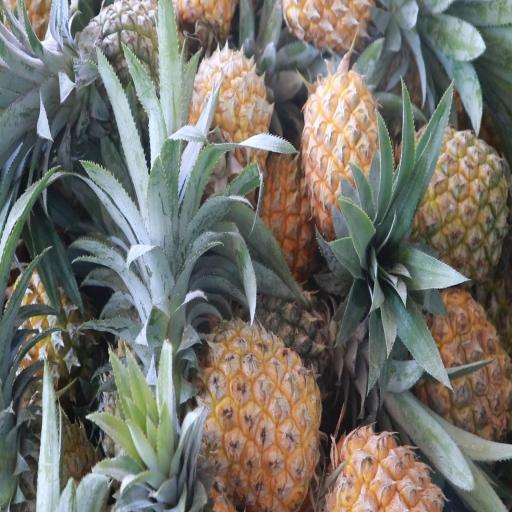Pineapple - v8 v1: (209, 318, 321, 512), (413, 130, 510, 280), (419, 286, 511, 441), (304, 68, 387, 234), (324, 423, 442, 512), (194, 51, 270, 184)
